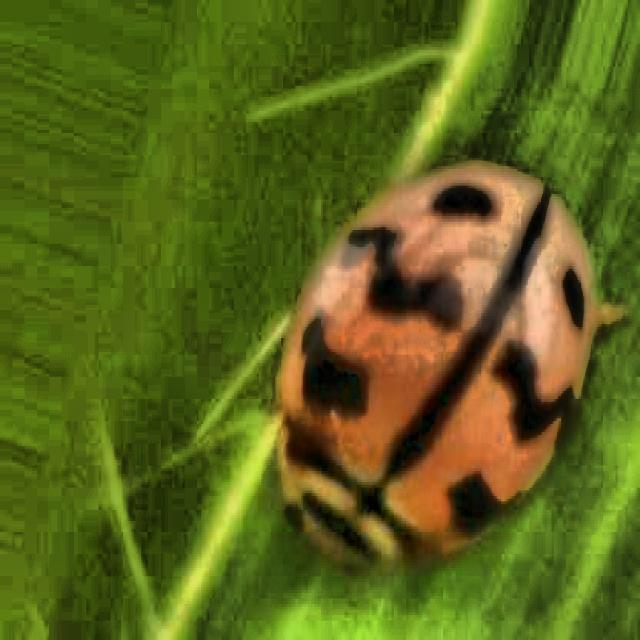Asian-Lady-beetle: (225, 95, 611, 593)
